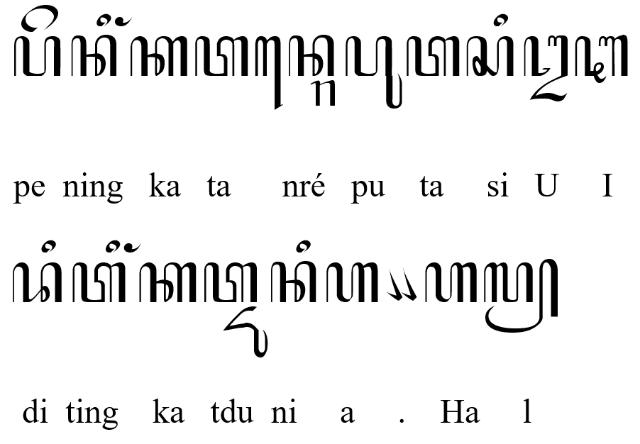-l: (482, 258, 558, 334)
I: (575, 34, 629, 84)
U: (522, 34, 568, 102)
_du: (222, 306, 268, 358)
d: (12, 262, 64, 304)
e: (20, 4, 58, 32)
e1: (254, 36, 284, 110)
h: (326, 260, 380, 304), (424, 262, 478, 304)
i: (95, 13, 111, 27), (492, 13, 508, 27), (40, 240, 56, 254), (105, 240, 121, 254), (295, 240, 311, 254)
k: (137, 260, 197, 304), (130, 34, 188, 78)
kom: (386, 267, 402, 301), (400, 266, 416, 300)
n: (289, 34, 335, 78), (70, 35, 118, 77), (270, 261, 316, 303)
ng: (124, 242, 142, 254), (115, 16, 134, 26)
p: (12, 35, 62, 76)
pu: (345, 36, 403, 108)
r: (310, 80, 336, 108)
s: (466, 34, 514, 78)
t: (72, 260, 128, 304), (194, 35, 250, 77), (406, 35, 460, 77), (204, 261, 258, 302)
